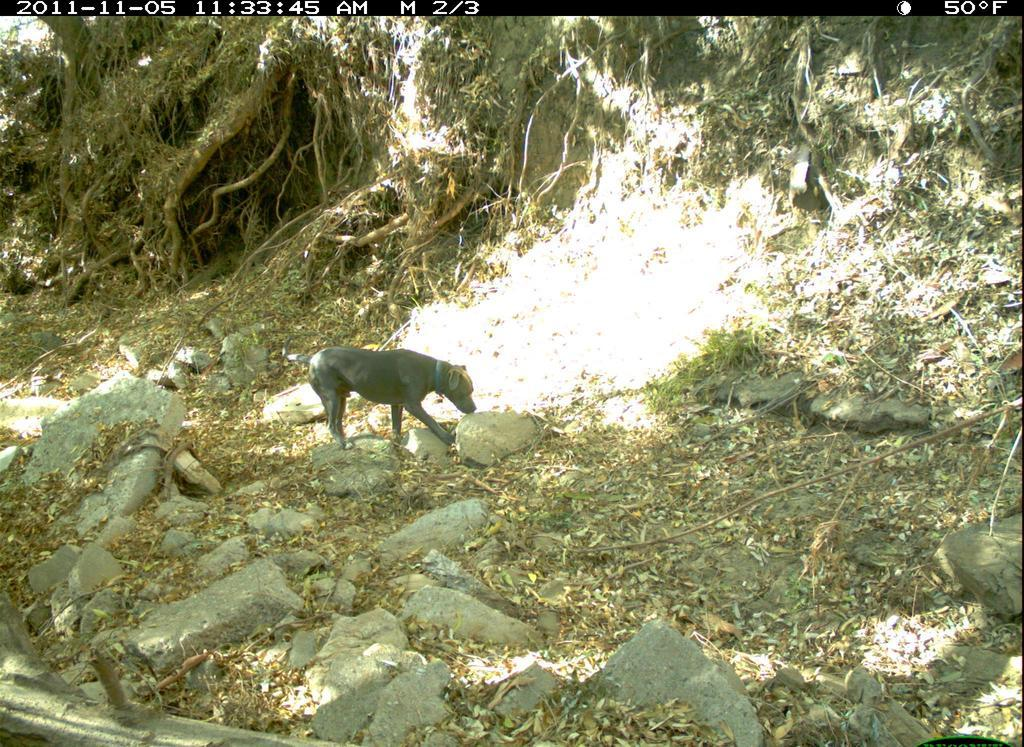dog: (287, 328, 495, 456)
